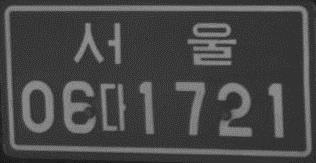0: (21, 79, 54, 134)
1: (136, 79, 159, 135), (265, 82, 288, 138)
2: (217, 81, 254, 138)
6: (60, 79, 97, 135)
7: (173, 79, 207, 136)
다: (98, 81, 130, 132)
서울_D: (72, 20, 238, 68)
